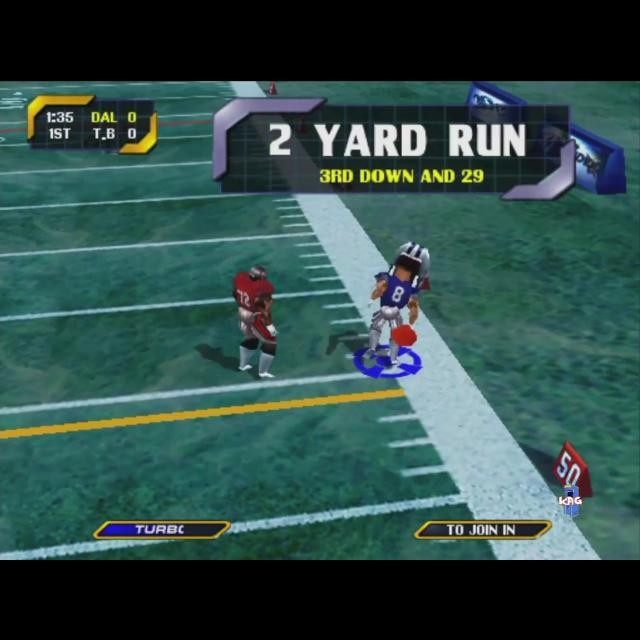player: (362, 238, 432, 368), (230, 266, 282, 378)
